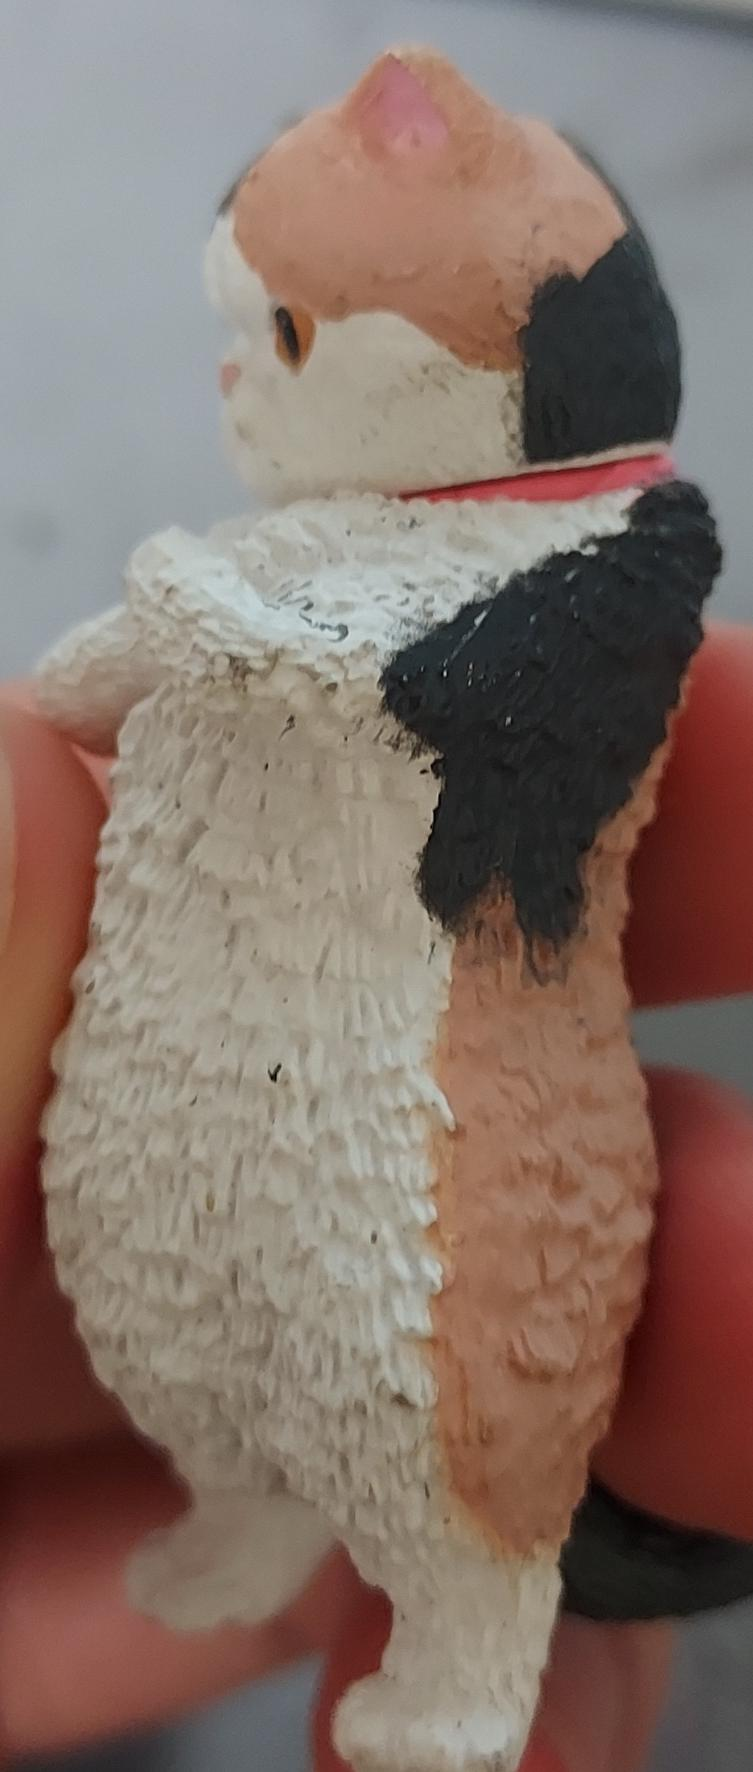cat: (1, 0, 753, 1772)
